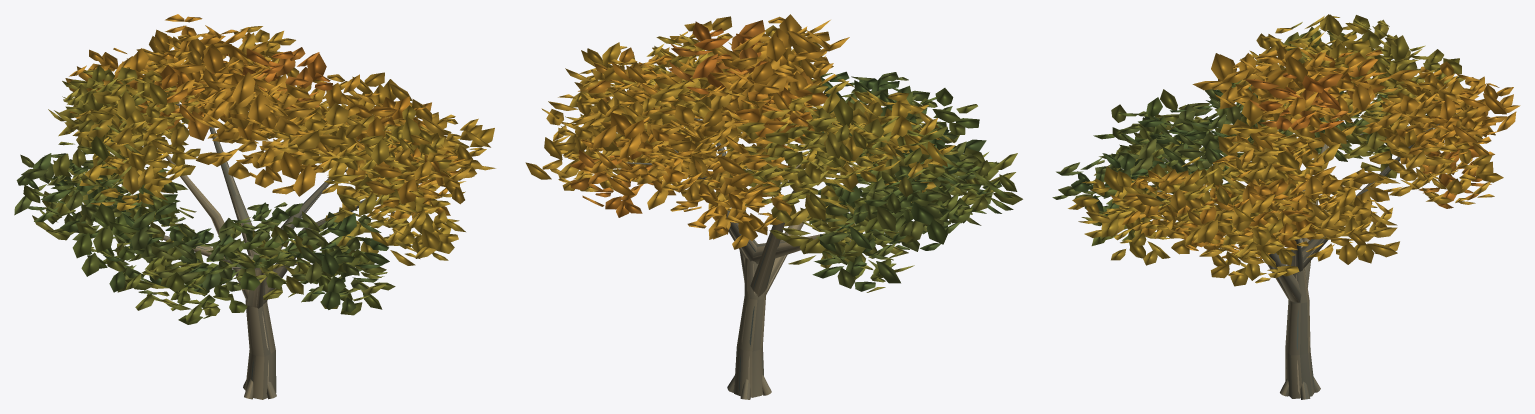
The model's file is HK_Tree_Sakura.glb.
3 renders of one model, left to right at view 1: azimuth 30°, elevation 25°; view 2: azimuth 150°, elevation 25°; view 3: azimuth 270°, elevation 25°, orthographic. The views are drawn at different scales.
Visible parts, largest first — view 1: HK_Tree_Sakura; view 2: HK_Tree_Sakura; view 3: HK_Tree_Sakura.
Part boxes in pixels (x1,y1,x2,y2): HK_Tree_Sakura: [14, 14, 495, 399]; HK_Tree_Sakura: [525, 14, 1022, 399]; HK_Tree_Sakura: [1052, 14, 1520, 399].
Size of the model in its own units: 7.94 by 6.27 by 7.89.
